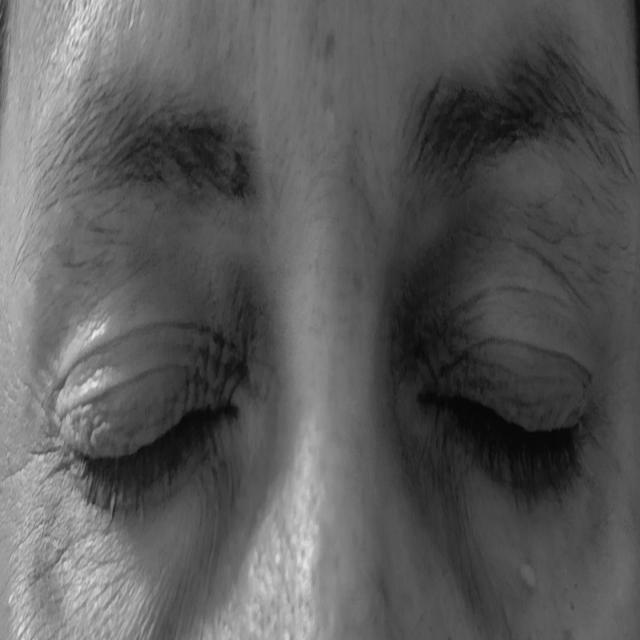real: (25, 136, 635, 584)
